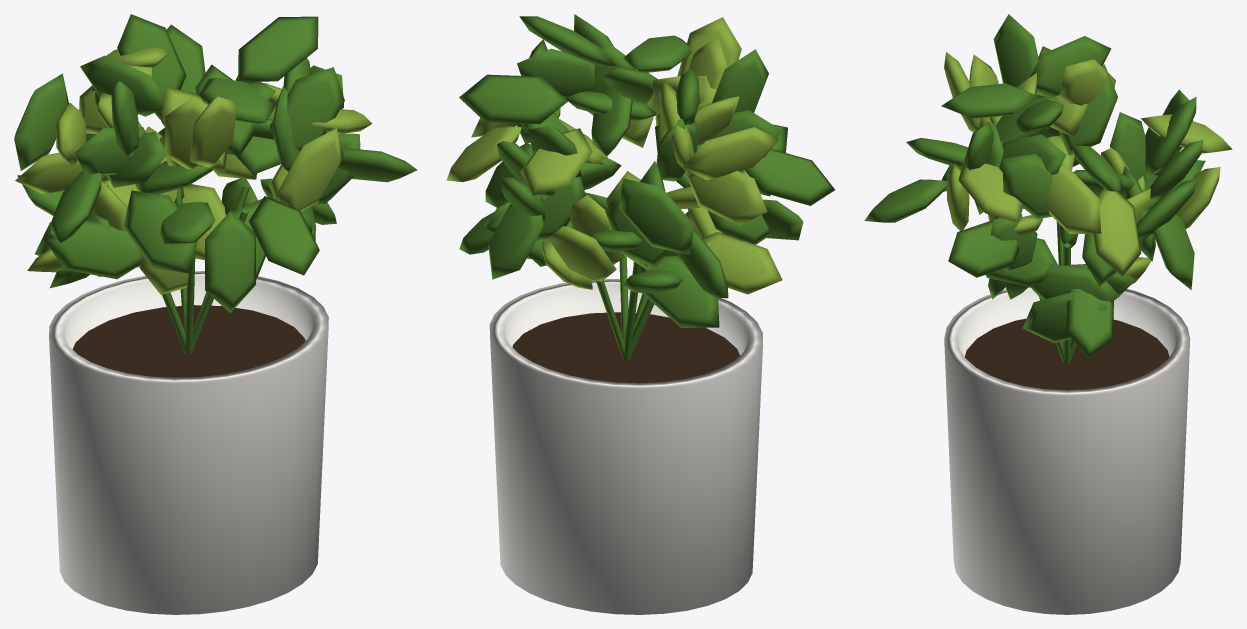
Rendered from planta-pequena.glb.
3 renders of one model, left to right at view 1: azimuth 30°, elevation 25°; view 2: azimuth 150°, elevation 25°; view 3: azimuth 270°, elevation 25°, orthographic. The views are drawn at different scales.
Visible parts, largest first — view 1: planta-pequena; view 2: planta-pequena; view 3: planta-pequena.
Part boxes in pixels (x1,y1,x2,y2): planta-pequena: [14, 14, 417, 614]; planta-pequena: [446, 14, 834, 614]; planta-pequena: [864, 14, 1232, 614].
Size of the model in its own units: 0.2 by 0.3 by 0.2.
